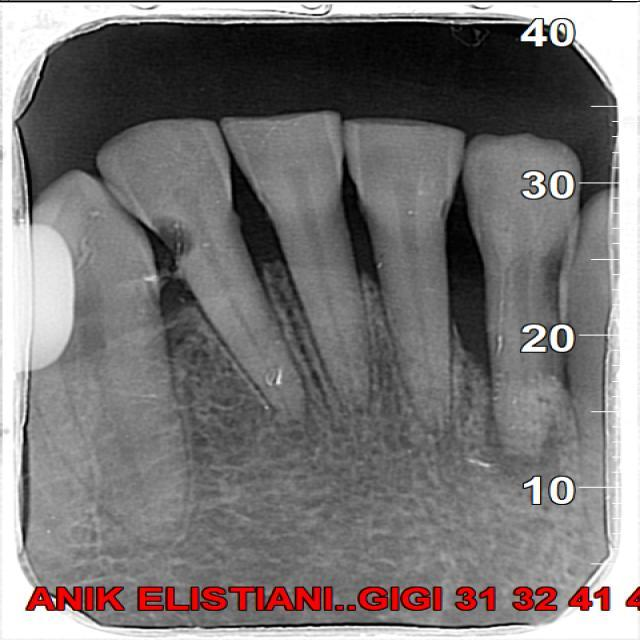individual-tooth-8tto: (95, 116, 311, 423), (217, 110, 368, 406), (340, 119, 469, 443), (459, 138, 587, 464)
